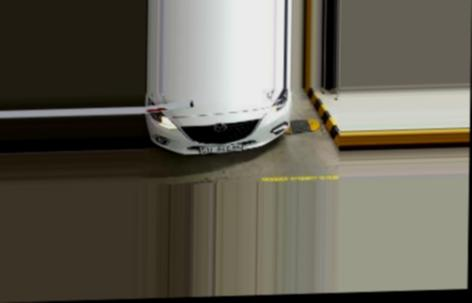License_Plate: (198, 142, 243, 154)
